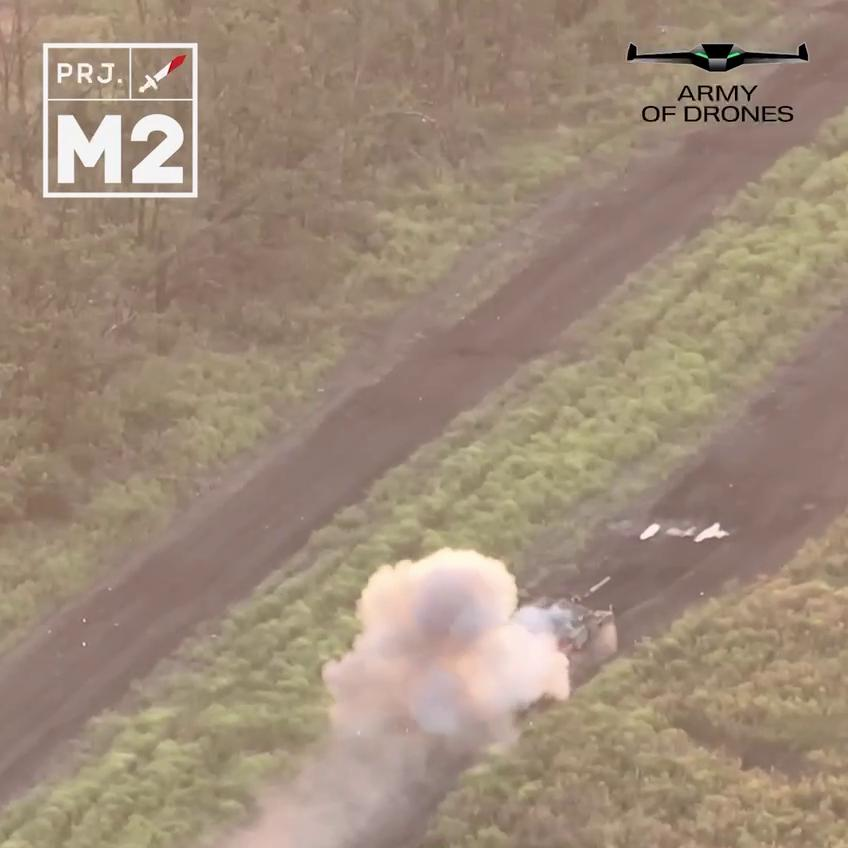tank: (469, 572, 642, 704)
